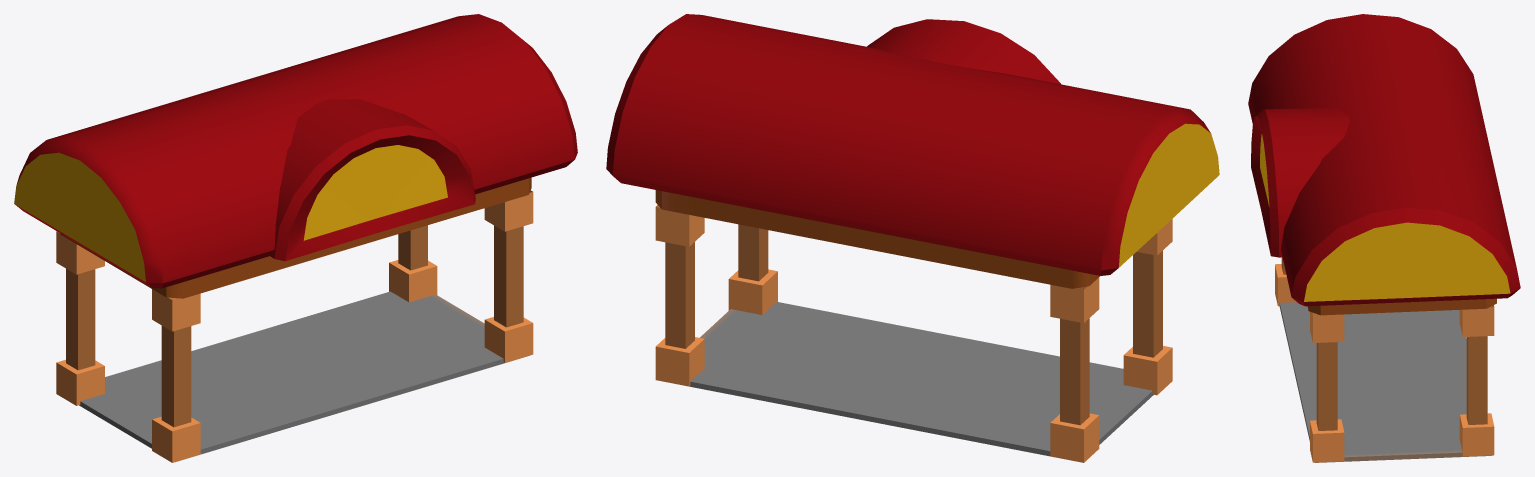
The model's file is SM_Station.fbx.
3 renders of one model, left to right at view 1: azimuth 30°, elevation 25°; view 2: azimuth 150°, elevation 25°; view 3: azimuth 270°, elevation 25°, orthographic. The views are drawn at different scales.
Parts seen in each view (by area): view 1: SM_Station; view 2: SM_Station; view 3: SM_Station.
Boxes of the visible parts, x1=… form: SM_Station: x1=14, y1=14, x2=577, y2=462; SM_Station: x1=606, y1=14, x2=1219, y2=462; SM_Station: x1=1248, y1=14, x2=1520, y2=462.
Size of the model in its own units: 606 by 355 by 331.
